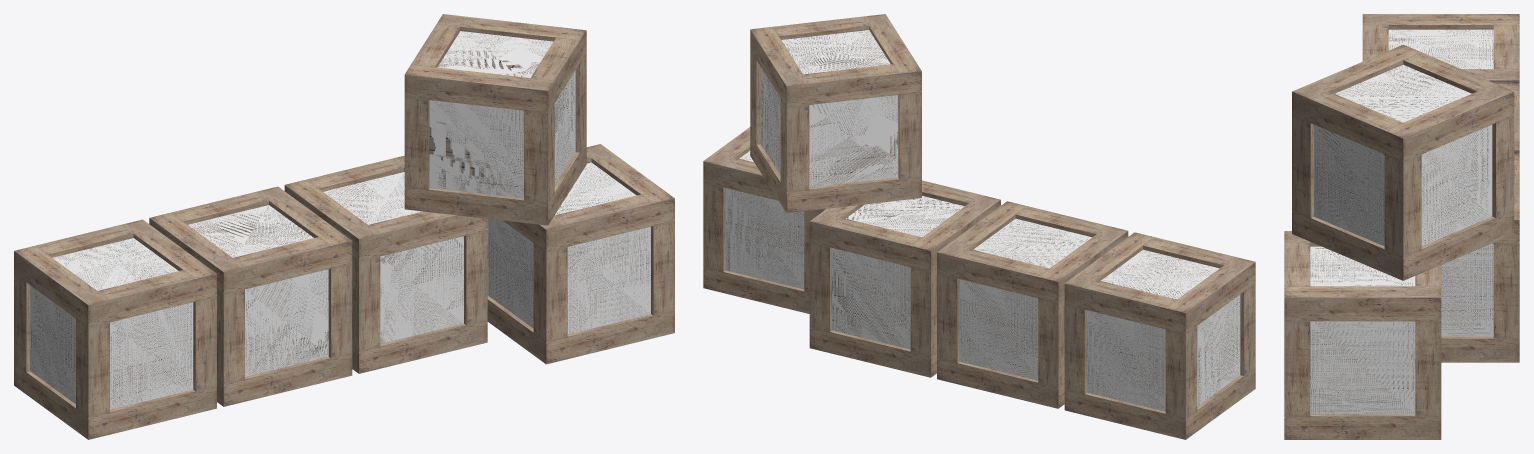
3 views of the same model, side by side, from view 1: azimuth 30°, elevation 25°; view 2: azimuth 150°, elevation 25°; view 3: azimuth 270°, elevation 25° (orthographic). The views are drawn at different scales.
Parts seen in each view (by area): view 1: crate (×18); view 2: crate (×16); view 3: crate (×12).
Boxes of the visible parts, x1=… form: crate (×18): x1=14, y1=14, x2=674, y2=439; crate (×16): x1=703, y1=14, x2=1255, y2=439; crate (×12): x1=1284, y1=14, x2=1519, y2=439.
Size of the model in its own units: 171 by 59.89 by 79.92.
3 materials, 2 textured.
